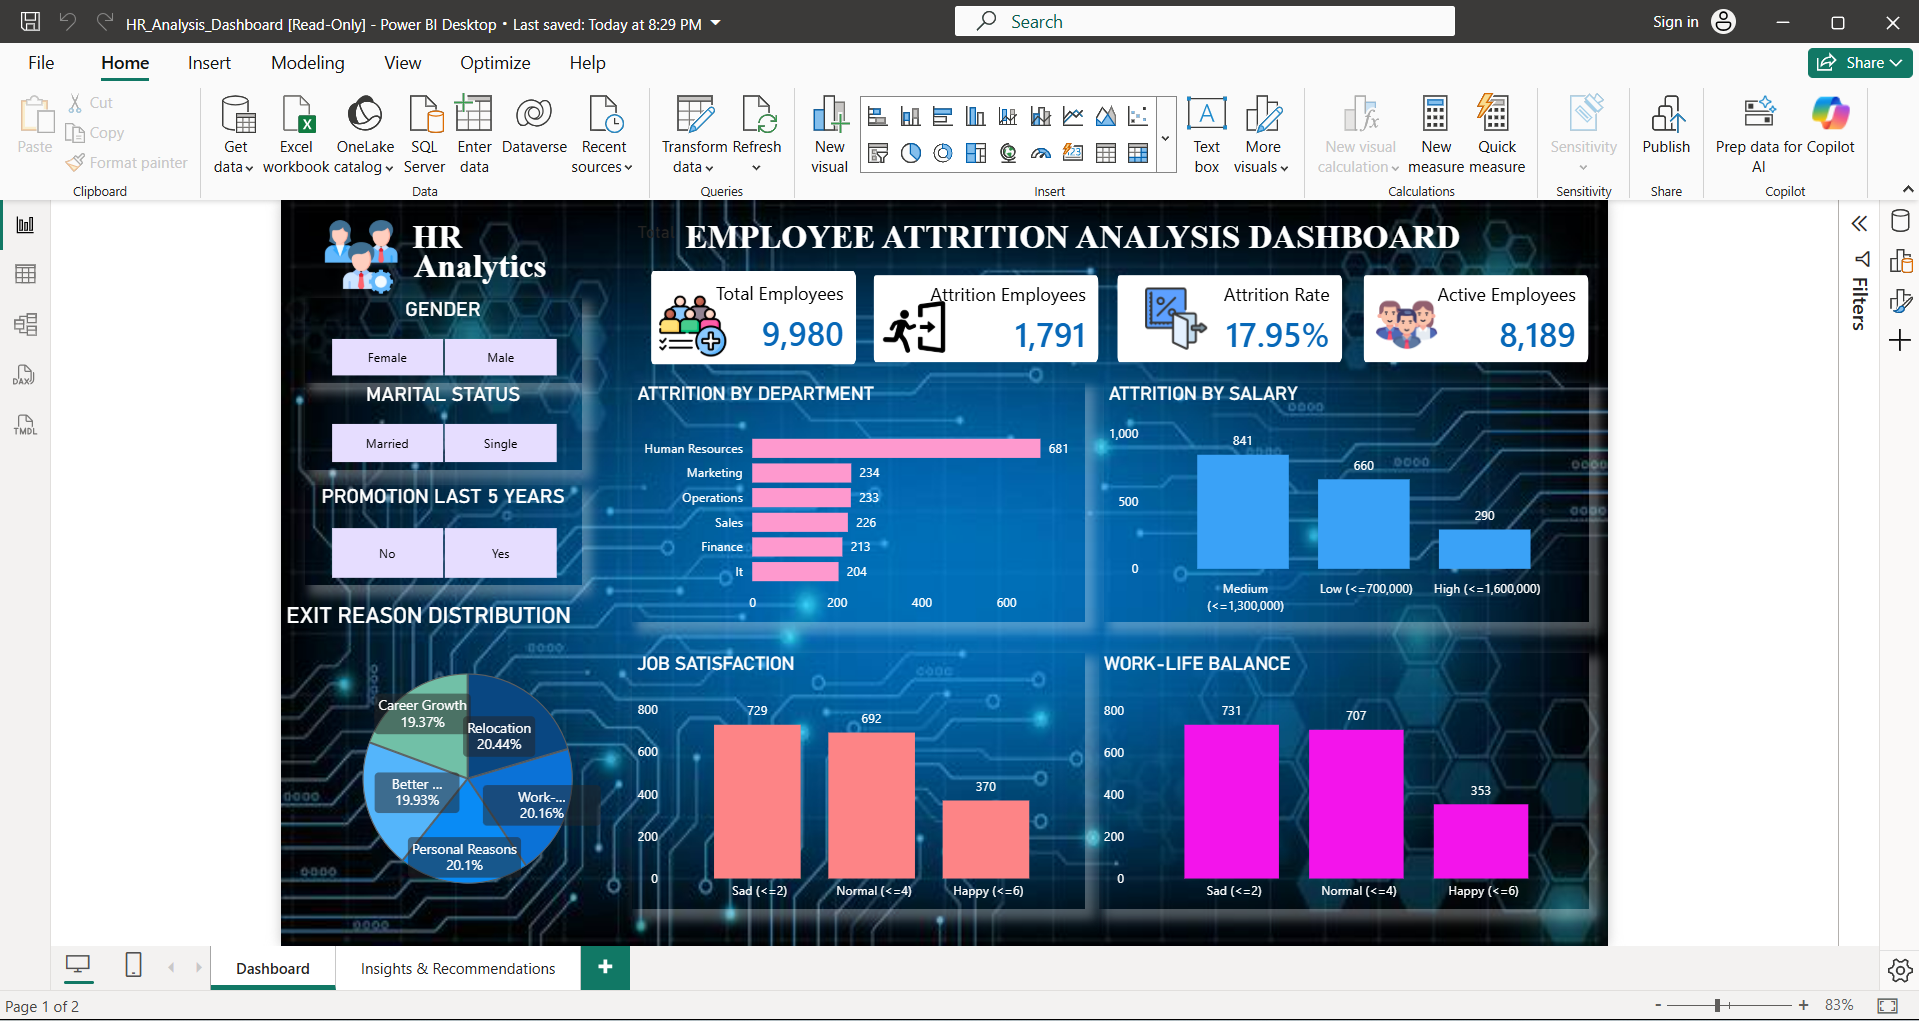

The page's visual inventory and layout, read from the dashboard file:
{"tool":"powerbi","page":{"name":"Dashboard","canvas":[1280,720],"ordinal":0},"visuals":[{"type":"textbox","box":[360.7,12.1,807.1,54.3],"z":0},{"type":"cardVisual","fields":{"Data":["HR_Clean_Dataset.Active Employees"]},"box":[1026.7,54.3,253.4,120.6],"z":1000},{"type":"cardVisual","fields":{"Data":["HR_Clean_Dataset.Attrition Rate"]},"box":[789,54.3,253.4,120.6],"z":2000},{"type":"cardVisual","title":"Total","fields":{"Data":["HR_Clean_Dataset.Total Employees"]},"box":[338.5,19.9,234.7,156.4],"z":3000},{"type":"image","box":[1042.4,90.5,88.1,60.3],"z":4000},{"type":"cardVisual","fields":{"Data":["HR_Clean_Dataset.Attrition Employees"]},"box":[553.8,54.3,253.4,120.6],"z":5000},{"type":"image","box":[573.1,90.5,76,63.9],"z":6000},{"type":"image","box":[820.4,84.5,86.9,60.3],"z":7000},{"type":"textbox","box":[122.1,12.3,86.4,54.9],"z":8000},{"type":"textbox","box":[122.6,40.4,182.5,60.4],"z":9000},{"type":"image","box":[34.3,19.2,87.8,71.4],"z":10000},{"type":"barChart","title":"ATTRITION BY DEPARTMENT","fields":{"Y":["HR_Clean_Dataset.Attrition Employees"],"Category":["HR_Clean_Dataset.Department"]},"box":[339,176,437.2,230.8],"z":11000},{"type":"columnChart","title":"ATTRITION BY SALARY","fields":{"Y":["HR_Clean_Dataset.Attrition Employees"],"Category":["HR_Clean_Dataset.Salary status"]},"box":[793.5,176,468.9,230.8],"z":12000},{"type":"columnChart","title":"JOB SATISFACTION","fields":{"Y":["HR_Clean_Dataset.Attrition Employees"],"Category":["HR_Clean_Dataset.Satisfaction status"]},"box":[339,437.2,437.2,248.2],"z":13000},{"type":"columnChart","title":"WORK-LIFE BALANCE","fields":{"Y":["HR_Clean_Dataset.Attrition Employees"],"Category":["HR_Clean_Dataset.Life status"]},"box":[789.2,437.2,473.2,248.2],"z":14000},{"type":"pieChart","title":"EXIT REASON DISTRIBUTION","fields":{"Category":["HR_Clean_Dataset.Exit_Reason"],"Y":["HR_Clean_Dataset.Attrition Employees"]},"box":[0,388.5,360.7,320.9],"z":15000},{"type":"slicer","title":"GENDER","fields":{"Values":["HR_Clean_Dataset.Gender"]},"box":[23.1,93.8,266.9,82.2],"z":16000},{"type":"slicer","title":"MARITAL STATUS","fields":{"Values":["HR_Clean_Dataset.Marital_Status"]},"box":[23.1,176,266.9,83.7],"z":17000},{"type":"slicer","title":"PROMOTION LAST 5 YEARS","fields":{"Values":["HR_Clean_Dataset.Promotion_Last_5Yrs"]},"box":[23.1,275.6,266.9,96.7],"z":18000},{"type":"image","box":[349.9,89.3,95.2,64.9],"z":19000}]}

Visuals, with their boxes on the page's 1280x720 design canvas (x1, y1, x2, y2). These are canvas units, not pixel positions in the 1919x1021 screenshot, which may show the page scaled, cropped or inside an application window:
textbox: 361 12 1168 66
cardVisual - HR_Clean_Dataset.Active Employees: 1027 54 1280 175
cardVisual - HR_Clean_Dataset.Attrition Rate: 789 54 1042 175
"Total" cardVisual: 338 20 573 176
image: 1042 90 1130 151
cardVisual - HR_Clean_Dataset.Attrition Employees: 554 54 807 175
image: 573 90 649 154
image: 820 84 907 145
textbox: 122 12 208 67
textbox: 123 40 305 101
image: 34 19 122 91
"ATTRITION BY DEPARTMENT" barChart: 339 176 776 407
"ATTRITION BY SALARY" columnChart: 794 176 1262 407
"JOB SATISFACTION" columnChart: 339 437 776 685
"WORK-LIFE BALANCE" columnChart: 789 437 1262 685
"EXIT REASON DISTRIBUTION" pieChart: 0 388 361 709
"GENDER" slicer: 23 94 290 176
"MARITAL STATUS" slicer: 23 176 290 260
"PROMOTION LAST 5 YEARS" slicer: 23 276 290 372
image: 350 89 445 154
